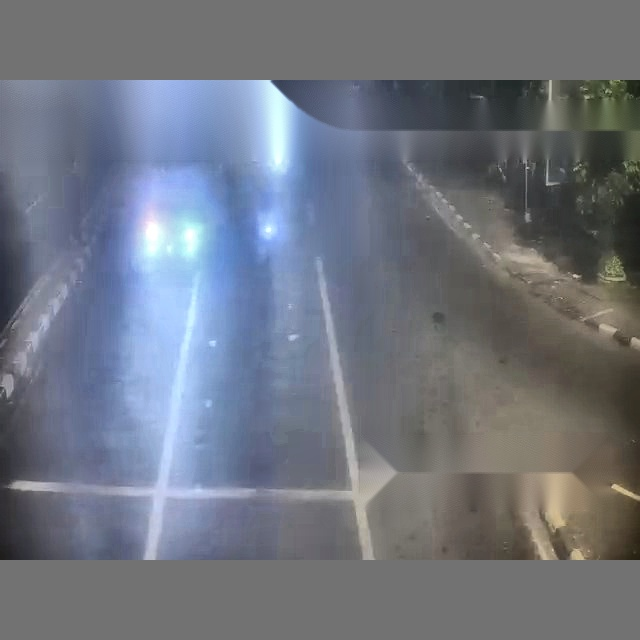Bis: (0, 82, 437, 525)
